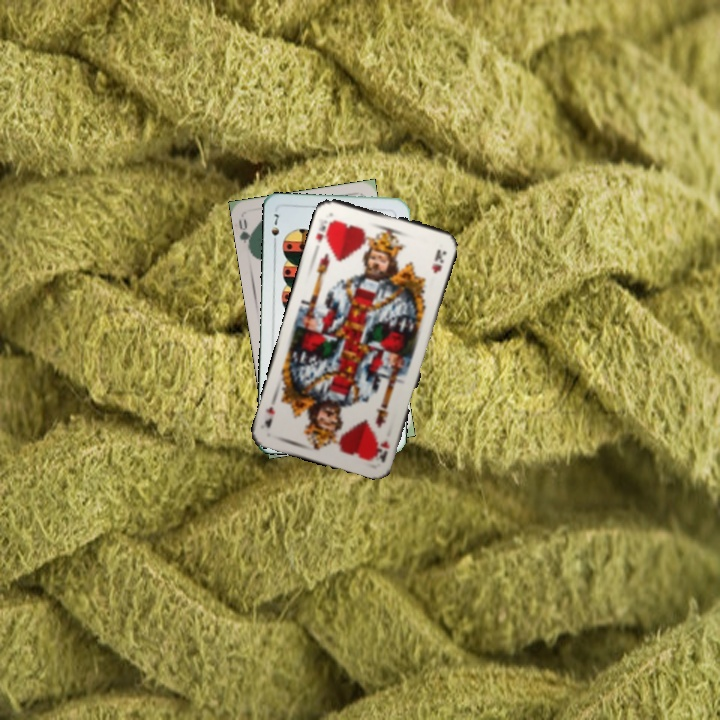GO: (235, 215, 256, 254)
HK: (311, 214, 336, 246), (373, 437, 392, 465)
S7: (267, 210, 283, 248)
